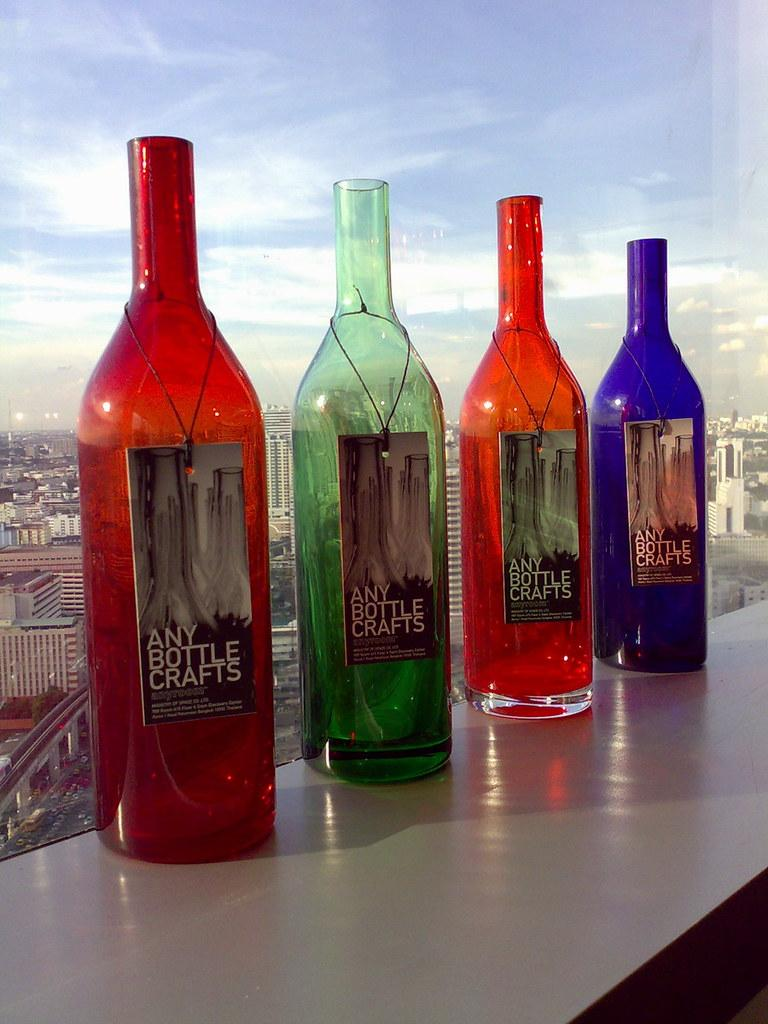bottle: (76, 135, 277, 864), (292, 178, 454, 784), (459, 195, 595, 720), (590, 238, 709, 674)
